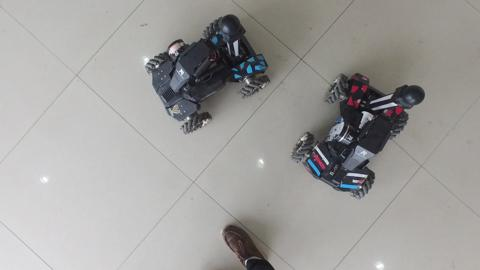chariot: (278, 68, 430, 202), (139, 13, 275, 140)
